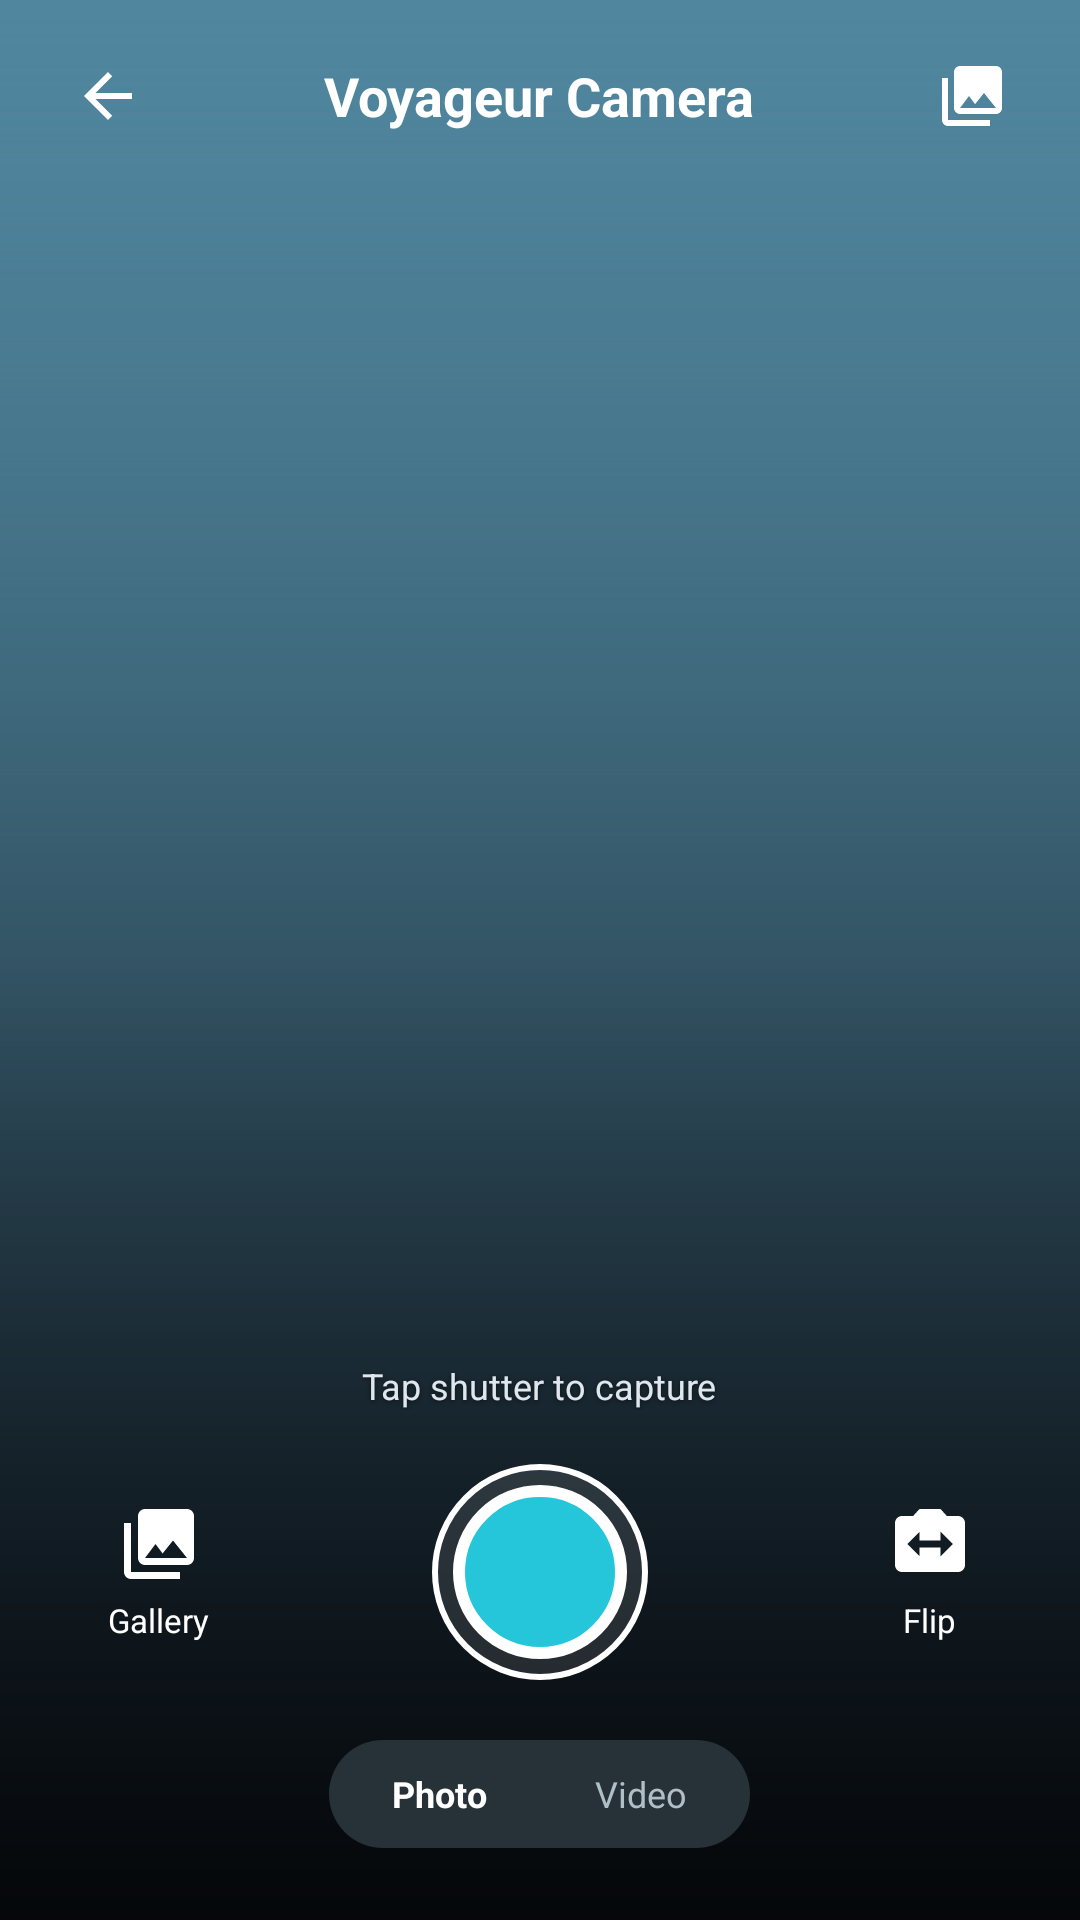

Named icons in this screenshot (1080x1920) and their centers, (x=x, y=y):
Back: (x=108, y=96)
Open Gallery: (x=972, y=96)
